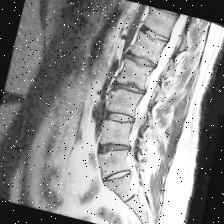disc: (98, 162, 137, 192), (122, 49, 162, 75), (102, 105, 140, 132), (137, 23, 175, 48)
hdisc: (110, 76, 151, 103), (95, 136, 135, 162)
